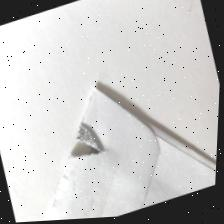paper: (11, 39, 222, 223)
